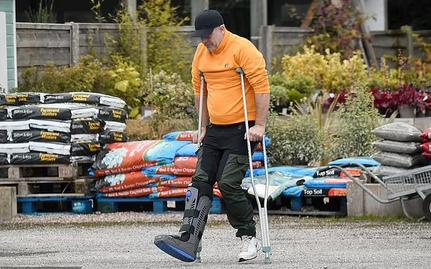crutches: (154, 9, 271, 264)
